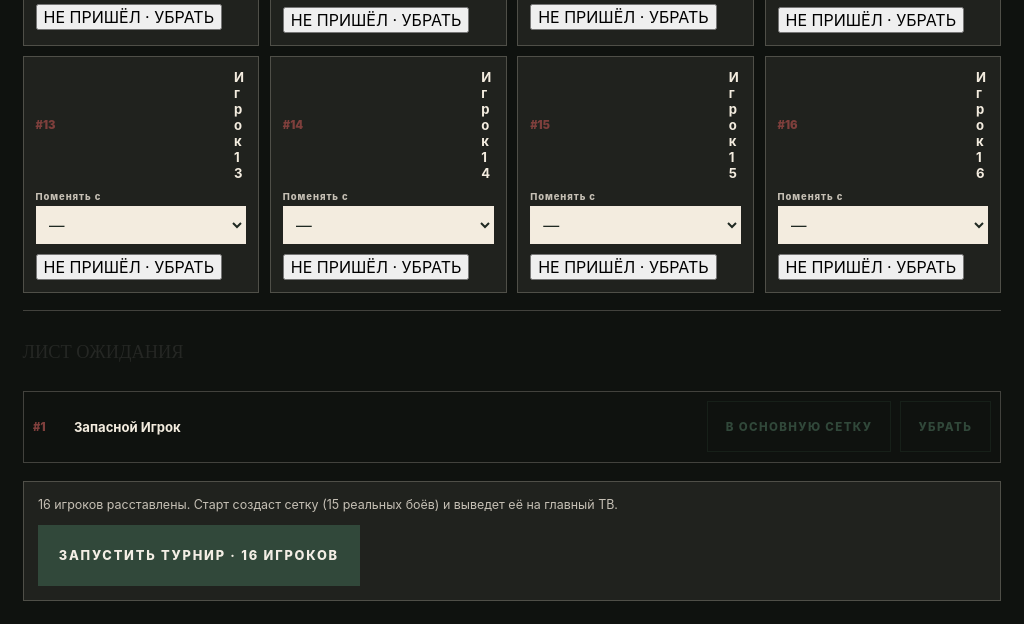
Test case: AdminMkControl › shows the actionable server reason when tournament launch is rejected
The width and height of the screenshot is (1024, 624).
(page scrolled)
Click the button "ЗАПУСТИТЬ ТУРНИР · 16 ИГРОКОВ": {"x": 199, "y": 555} [38,525,360,586]
(page scrolled)
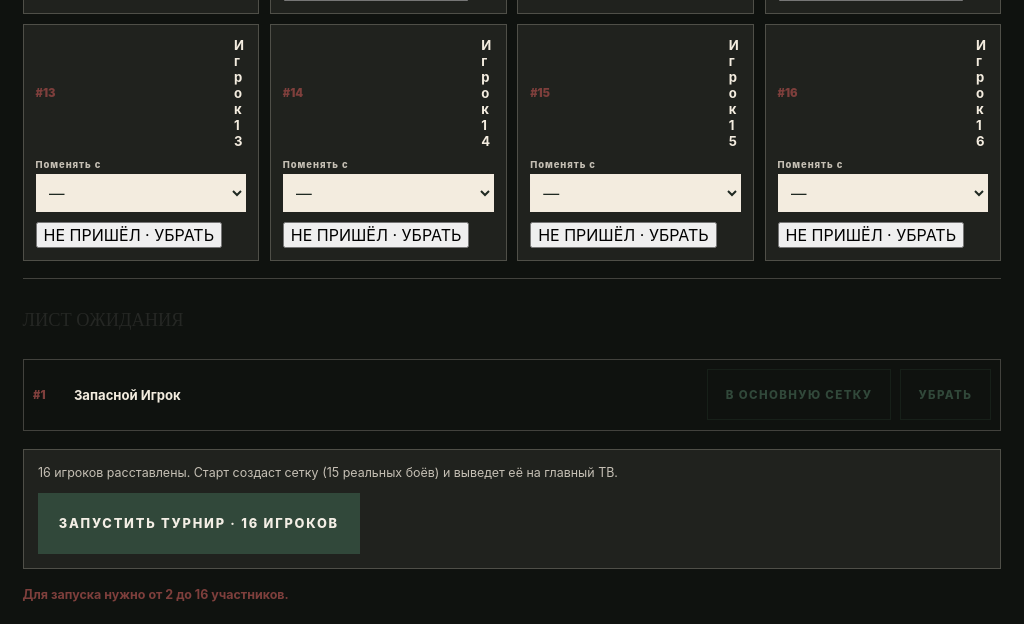
Now the message reads "Для запуска нужно от 2 до 16 участников.", box [22,587,289,602]
